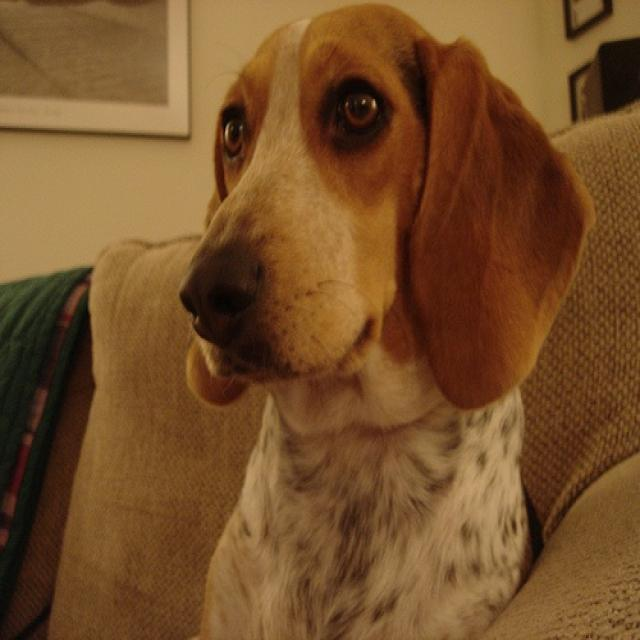dog: (179, 3, 596, 639)
